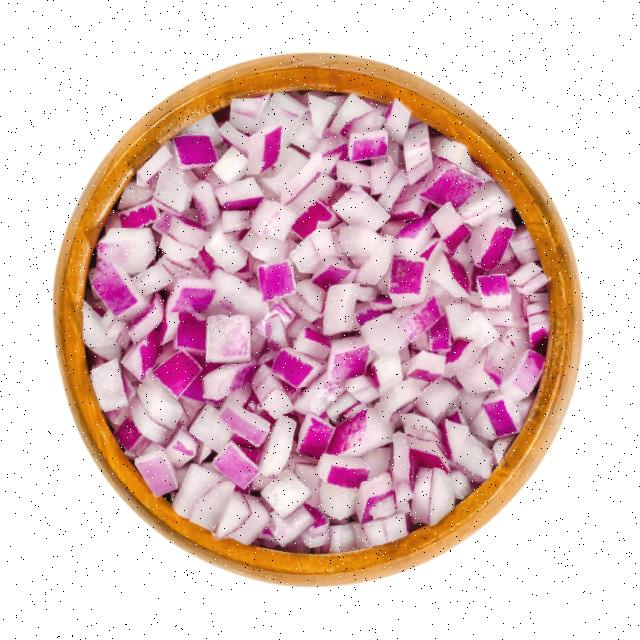Onion: (130, 177, 487, 461)
